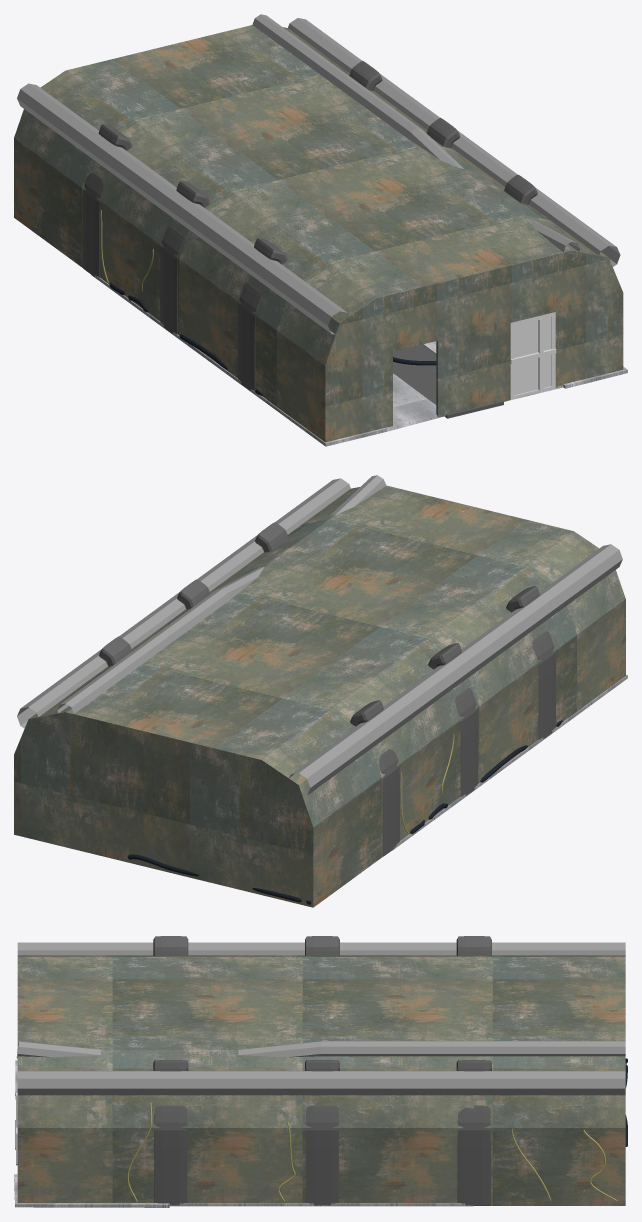
3 views of the same model, one above another, from view 1: azimuth 30°, elevation 25°; view 2: azimuth 150°, elevation 25°; view 3: azimuth 270°, elevation 25° (orthographic). The views are drawn at different scales.
Visible parts, largest first — view 1: Cube.002, Cube.014; view 2: Cube.002; view 3: Cube.002.
Part boxes in pixels (<box>): Cube.002: <box>14,14,627,446</box>; Cube.014: <box>510,312,556,399</box>; Cube.002: <box>14,475,627,907</box>; Cube.002: <box>14,936,627,1207</box>.
Size of the model in its own units: 18.44 by 8.52 by 32.91.
9 materials, 4 textured.
